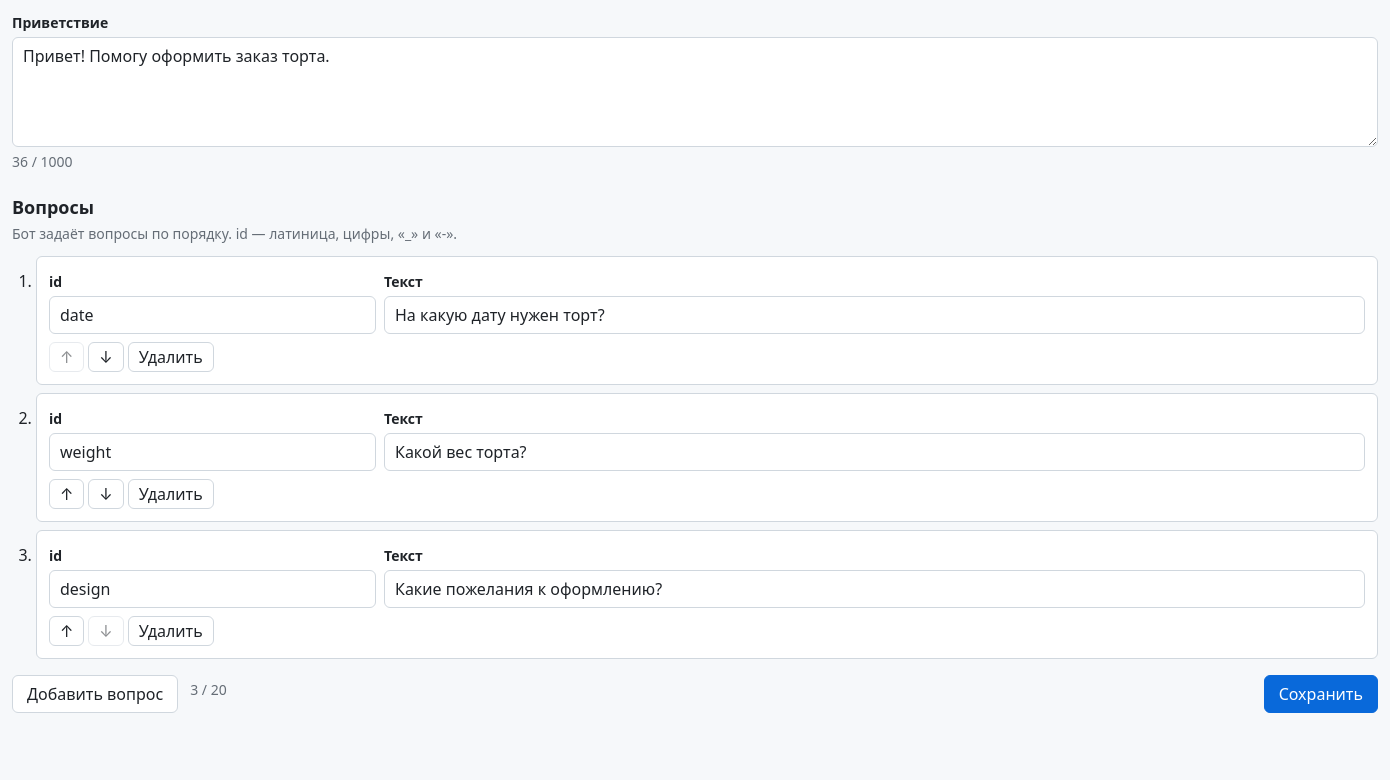
shows a save error that is not about fields
Click the button "Сохранить": x=1321, y=694 [1264, 674, 1378, 712]
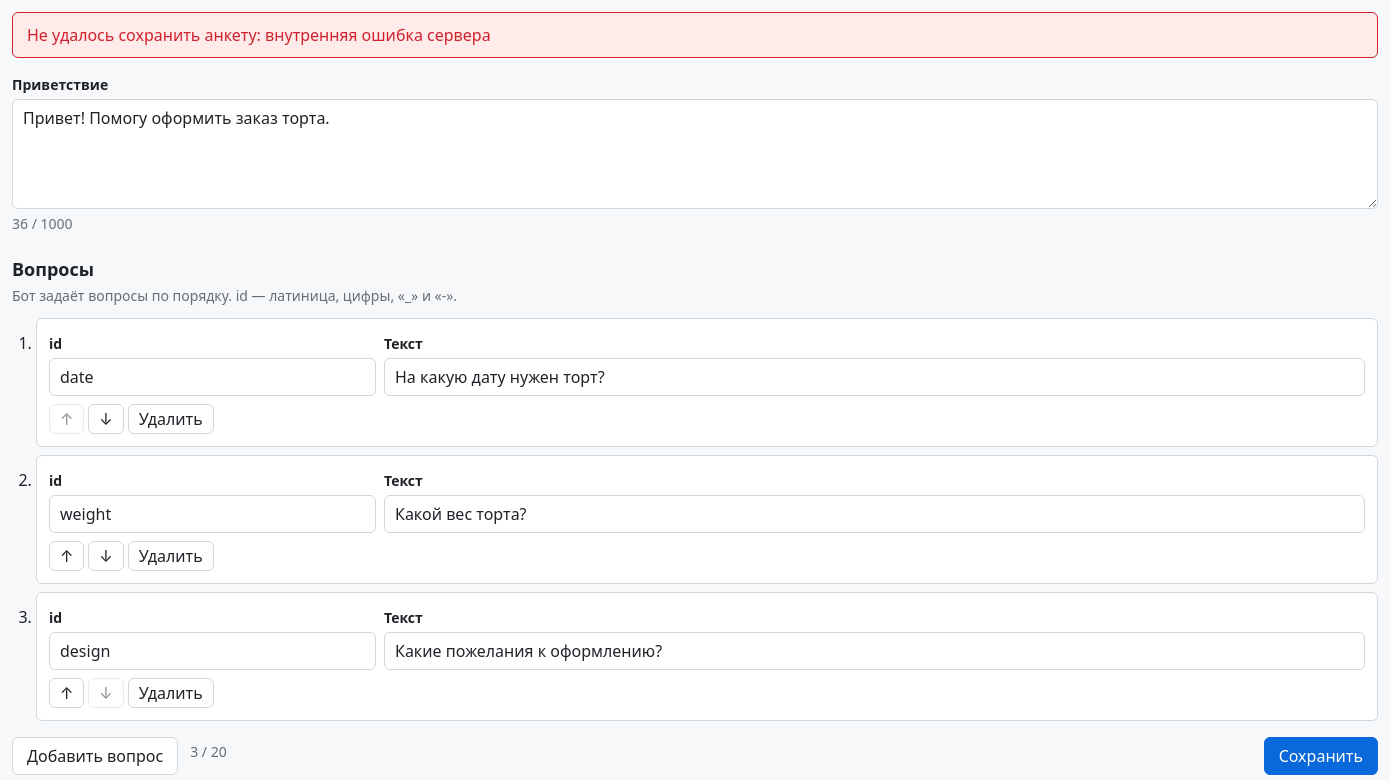
Expected: the message reads "Не удалось сохранить анкету: внутренняя ошибка сервера", [27, 24, 491, 46]
